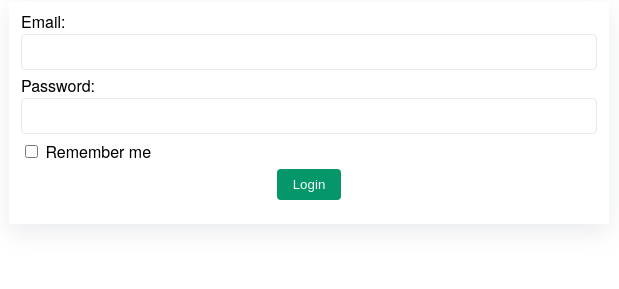
Login component › show error message on network error
Type "valid@email.pl" into the field labelled "Email:" at (309, 52), box [21, 34, 597, 70]
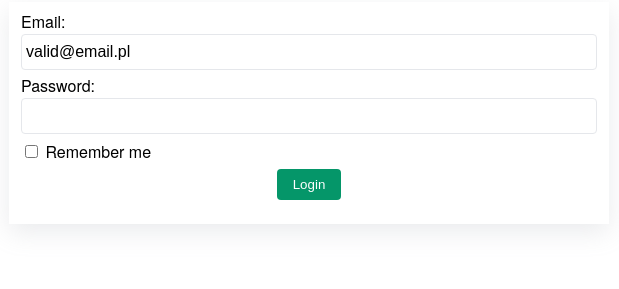
Type "Val1dPa55word" into the password field labelled "Password:" at (309, 116), box [21, 98, 597, 134]
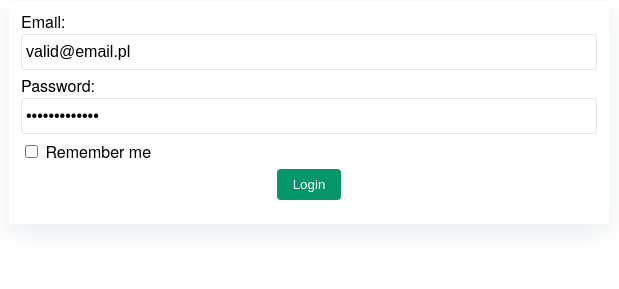
Click the button "Login" at (309, 184), box [277, 169, 341, 200]
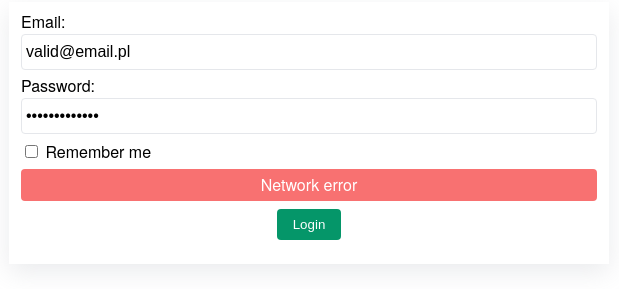
Now the text "Network error" is shown, box [21, 169, 597, 201]
